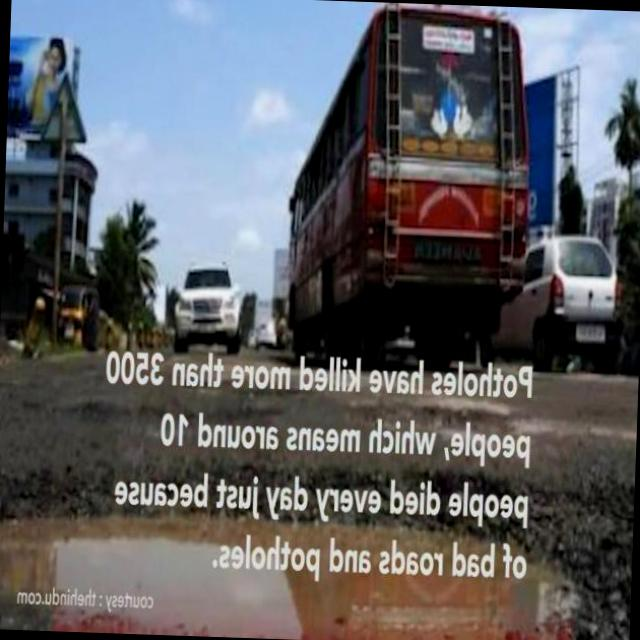Pathole: (5, 473, 570, 640)
